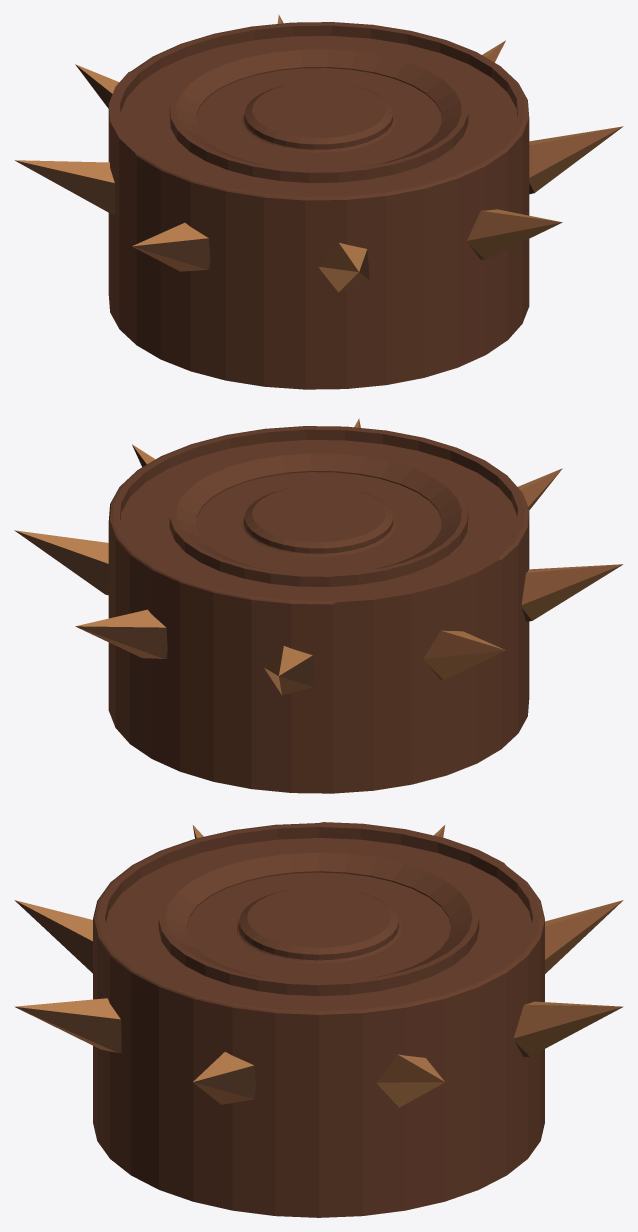
Rendered from wood_spike.fbx.
The picture shows the model from 3 angles, top to bottom: view 1: azimuth 30°, elevation 25°; view 2: azimuth 150°, elevation 25°; view 3: azimuth 270°, elevation 25°; orthographic projection. The views are drawn at different scales.
Parts seen in each view (by area): view 1: wood_spike_body; view 2: wood_spike_body; view 3: wood_spike_body.
Part boxes in pixels (left/top/right/bottom): wood_spike_body: left=15, top=14, right=623, bottom=389; wood_spike_body: left=14, top=418, right=623, bottom=793; wood_spike_body: left=14, top=822, right=623, bottom=1217.
Size of the model in its own units: 5.4 by 2 by 5.4.
1 material, 1 textured.
